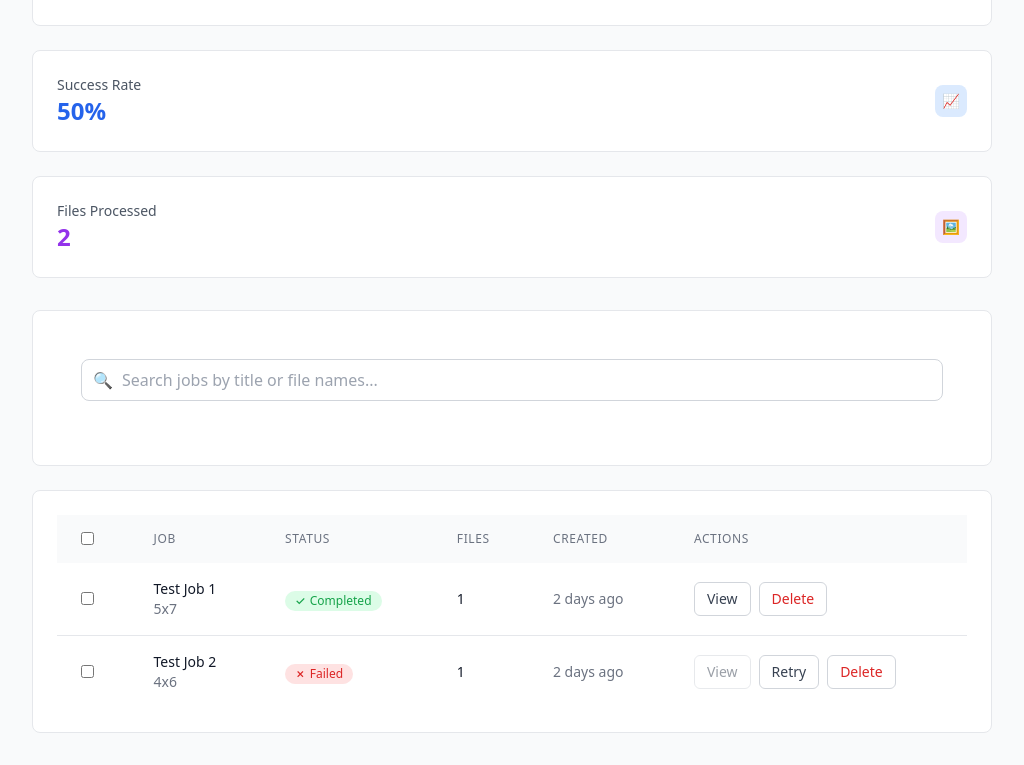
JobHistory Component › Selection › should handle select all functionality
This screenshot has width=1024, height=765.
(page scrolled)
Click the checkbox in the row of "Status": (88, 538) [81,532,94,545]
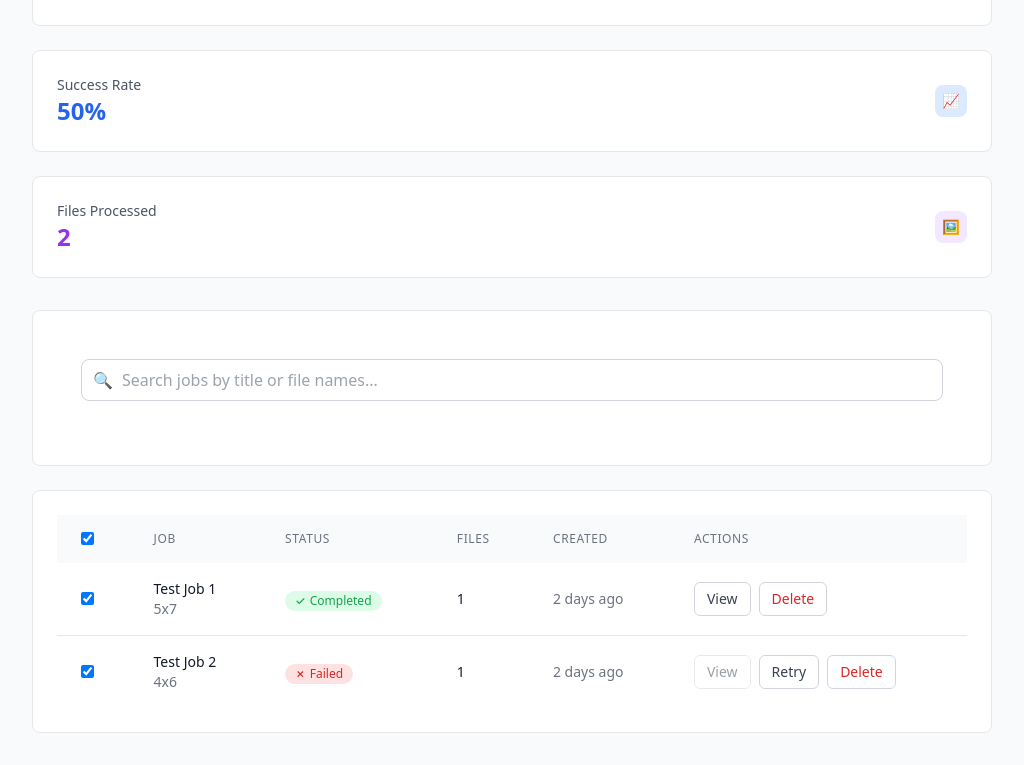
Check: the checkbox next to "Test Job 1" is checked, box [81,592,94,605]
Check: the checkbox next to "Test Job 2" is checked, box [81,665,94,678]
